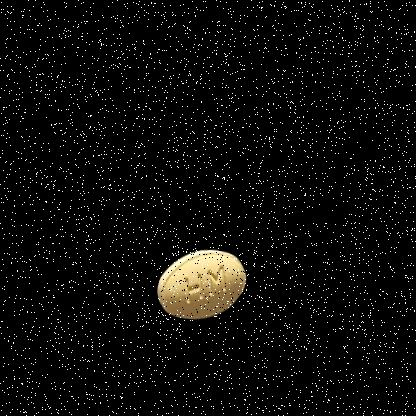tovast10: (145, 229, 253, 332)
